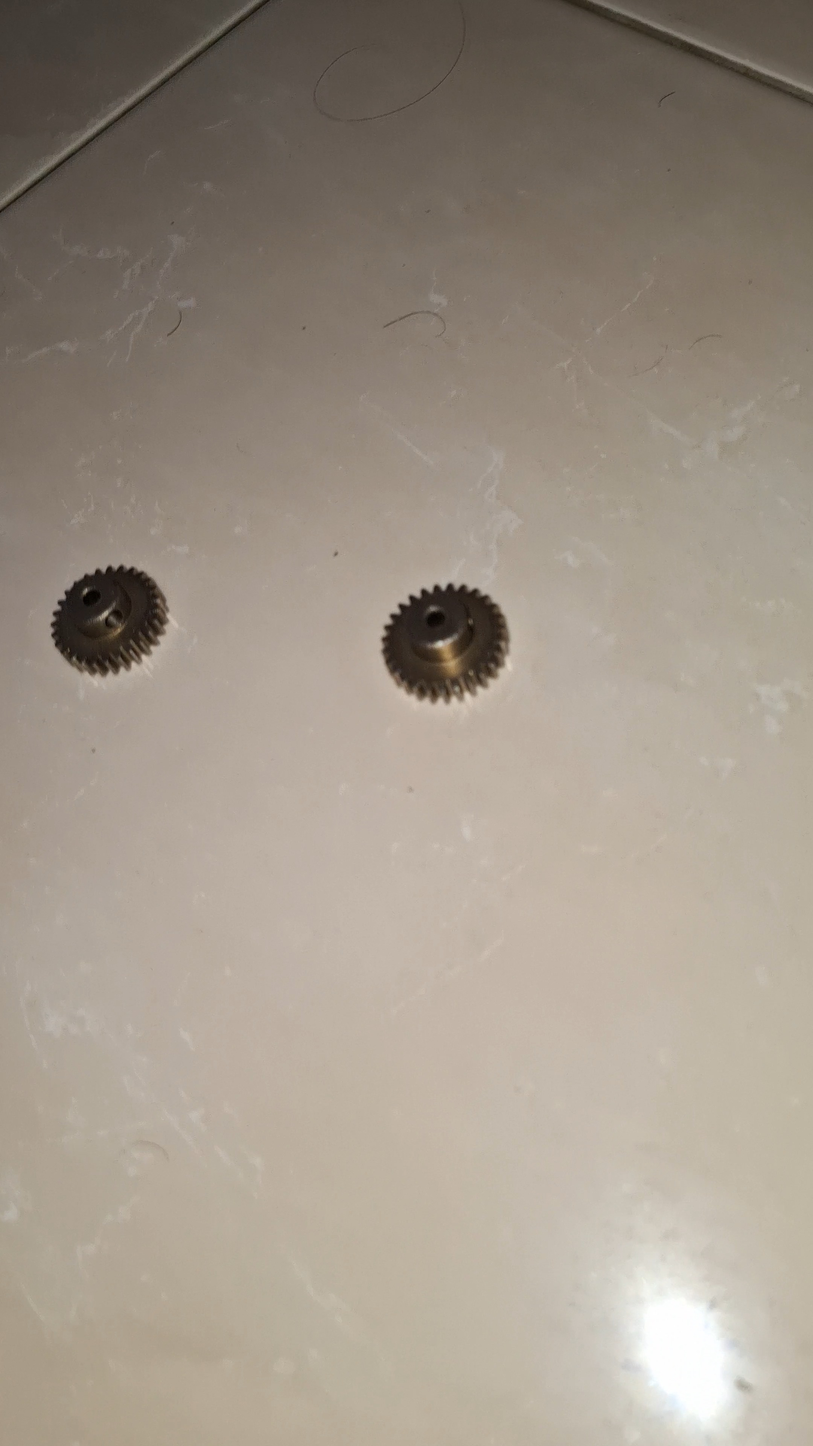spur gear: (382, 584, 508, 701), (52, 566, 167, 674)
